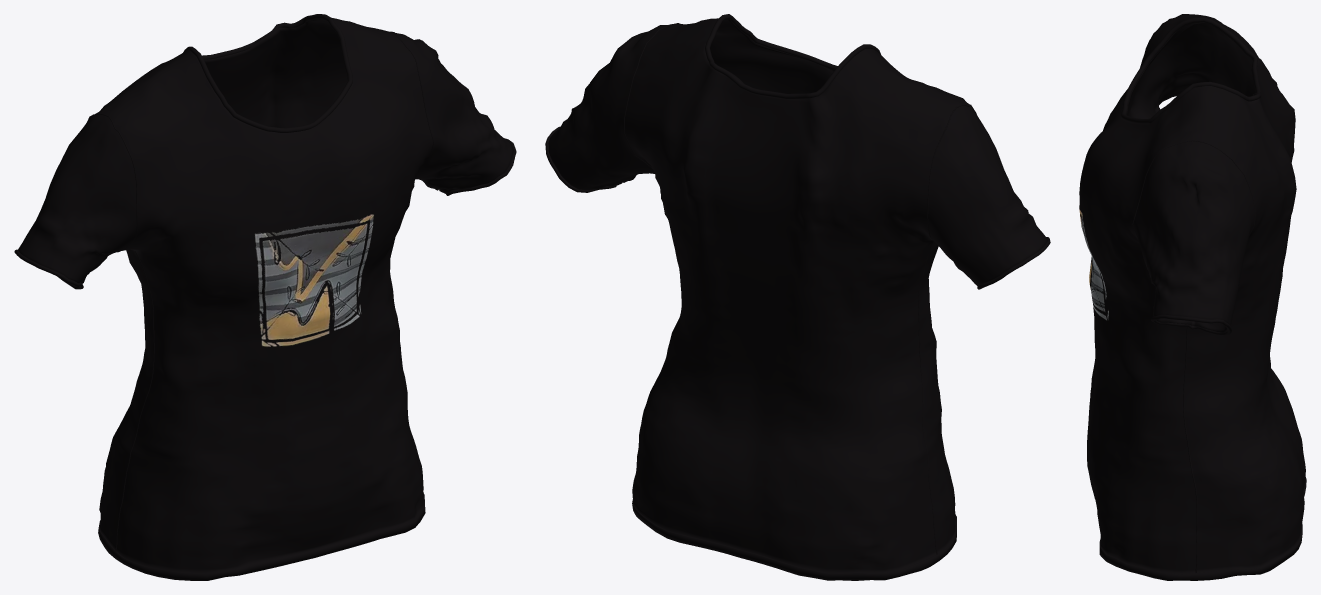
3 renders of one model, left to right at view 1: azimuth 30°, elevation 25°; view 2: azimuth 150°, elevation 25°; view 3: azimuth 270°, elevation 25°, orthographic. The views are drawn at different scales.
Parts seen in each view (by area): view 1: Plane.001; view 2: Plane.001; view 3: Plane.001.
Part boxes in pixels (bbox=[...]): Plane.001: bbox=[14, 14, 516, 580]; Plane.001: bbox=[545, 14, 1050, 580]; Plane.001: bbox=[1079, 14, 1306, 580].
Bounding box in the file's own units: 69.14 × 66.74 × 29.11.
